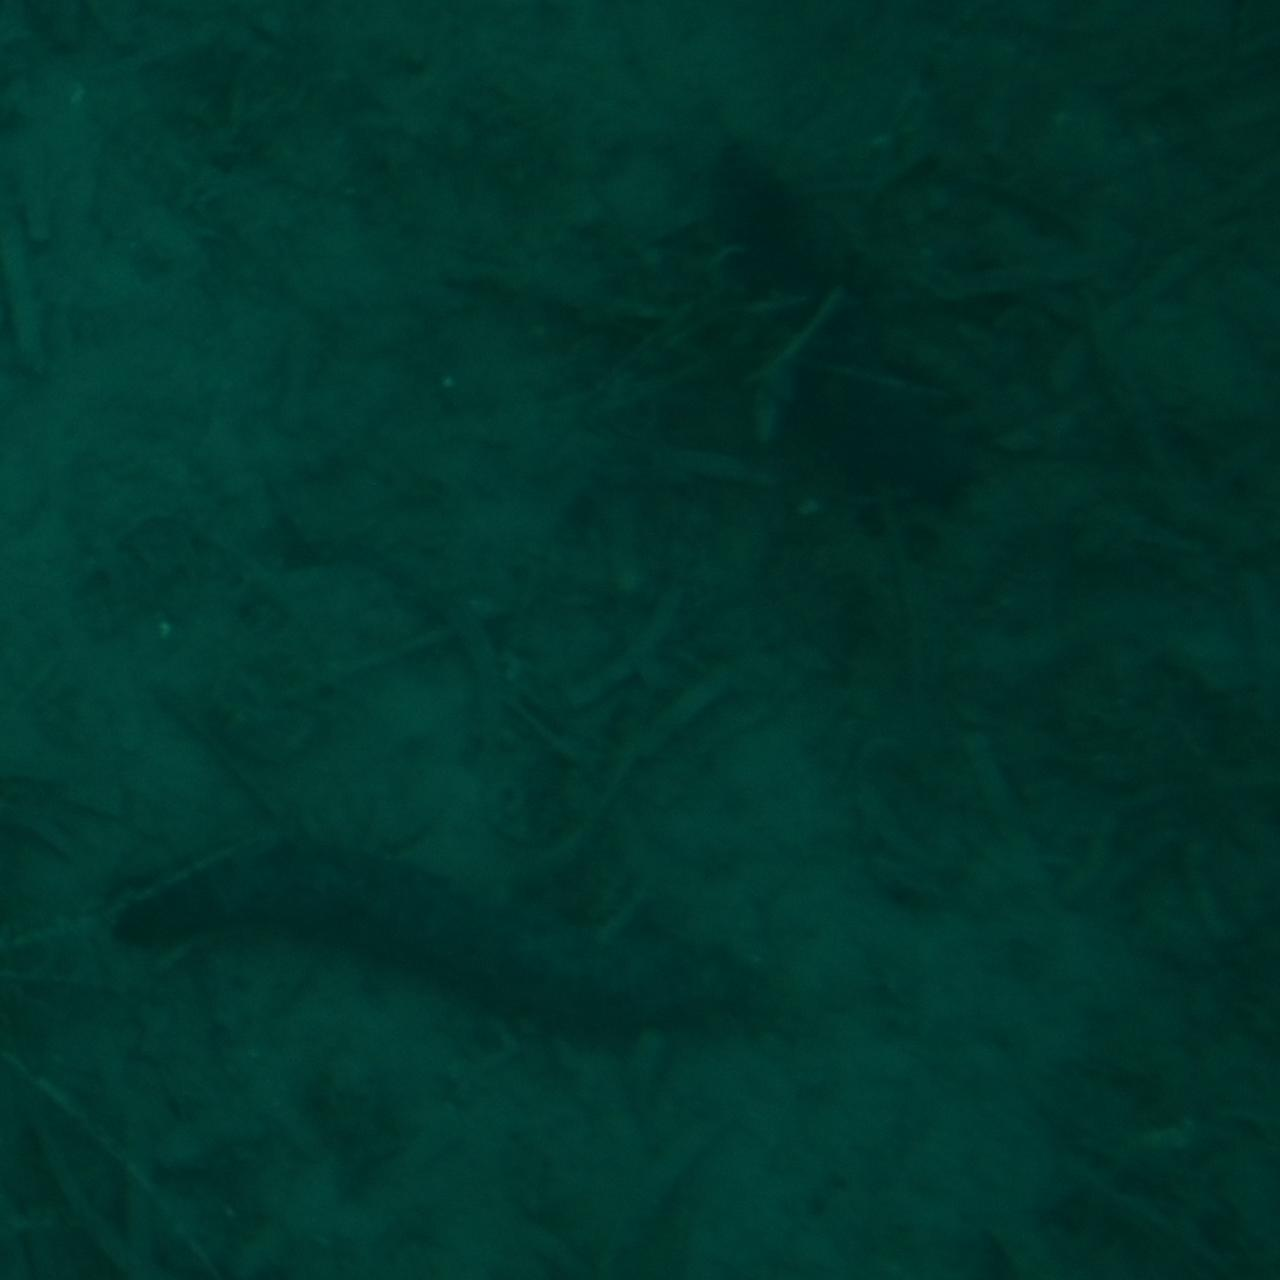Holothuria tubulosa: (90, 846, 770, 1065), (722, 136, 978, 512)
